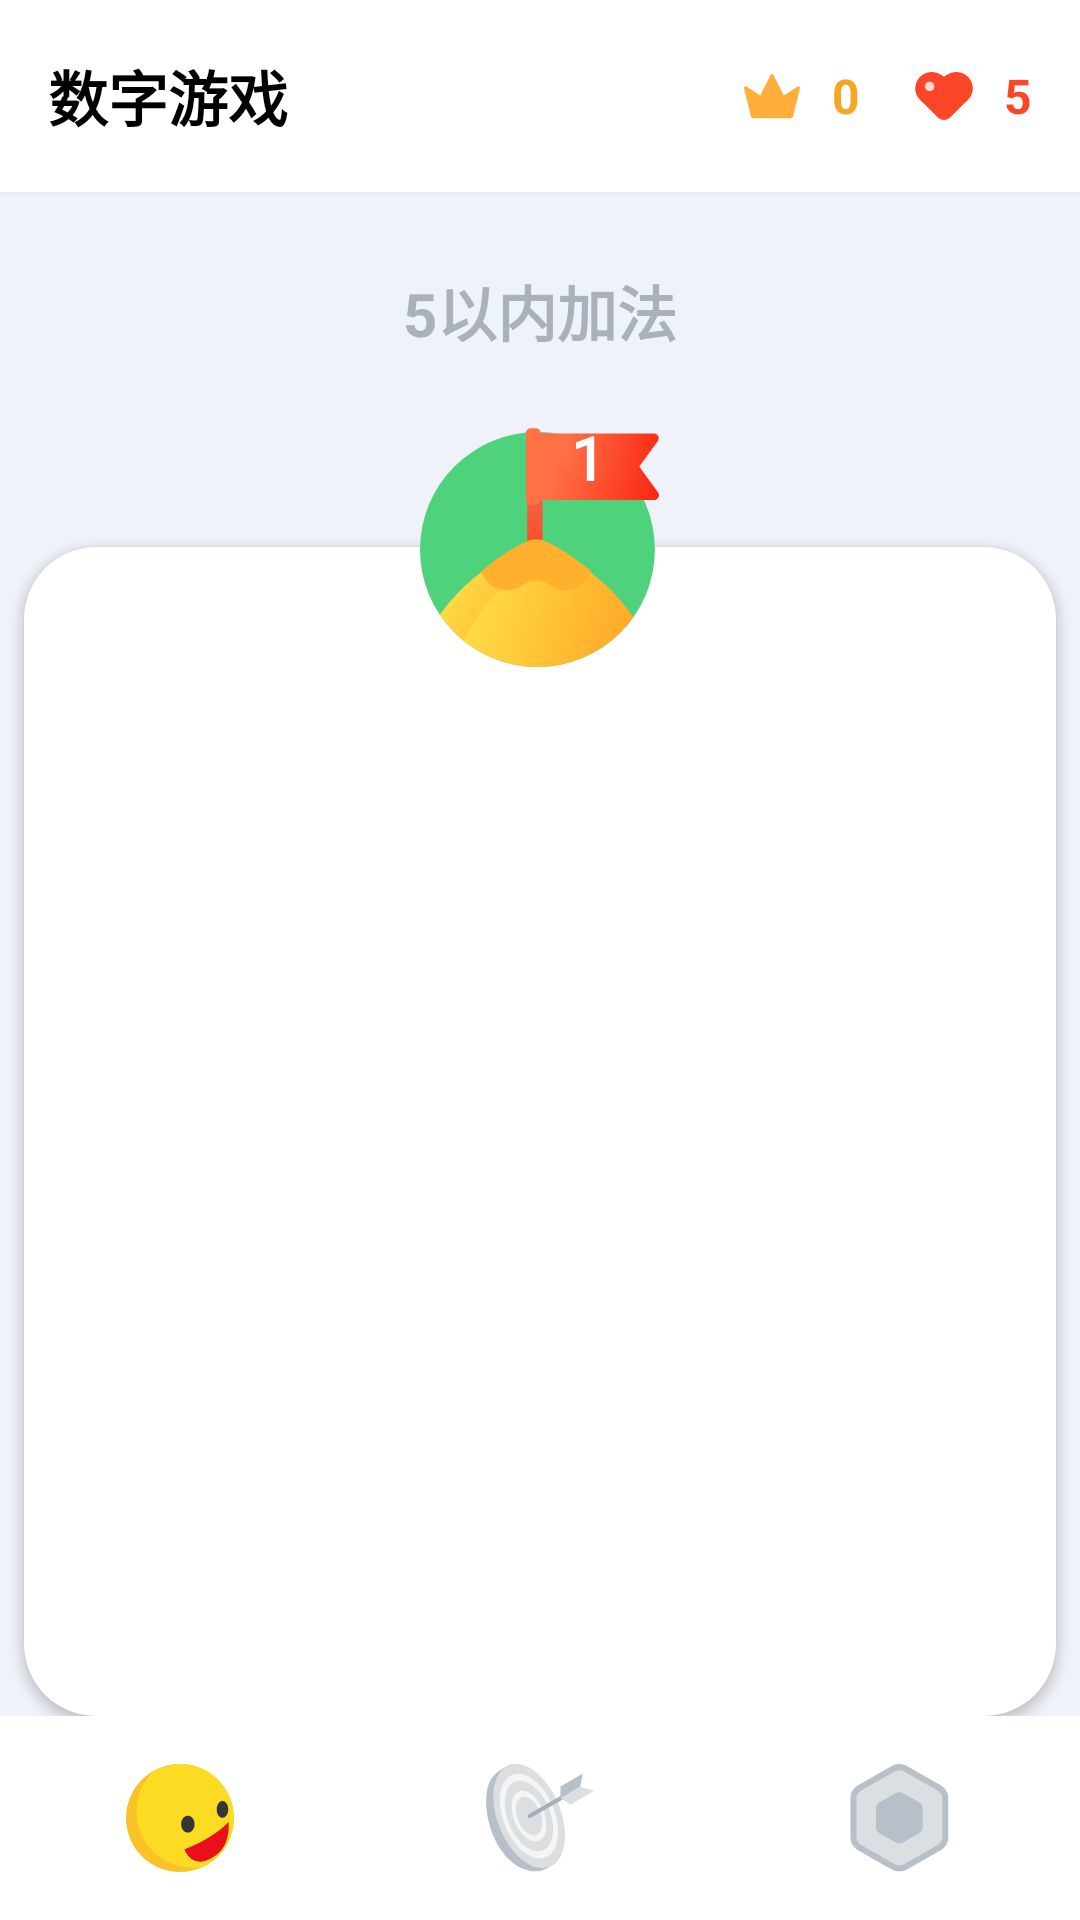

Icons on this 1080 x 1920 Android screen, each with the point to tap as [x,y]:
crown: [772,96]
heart available: [944,96]
